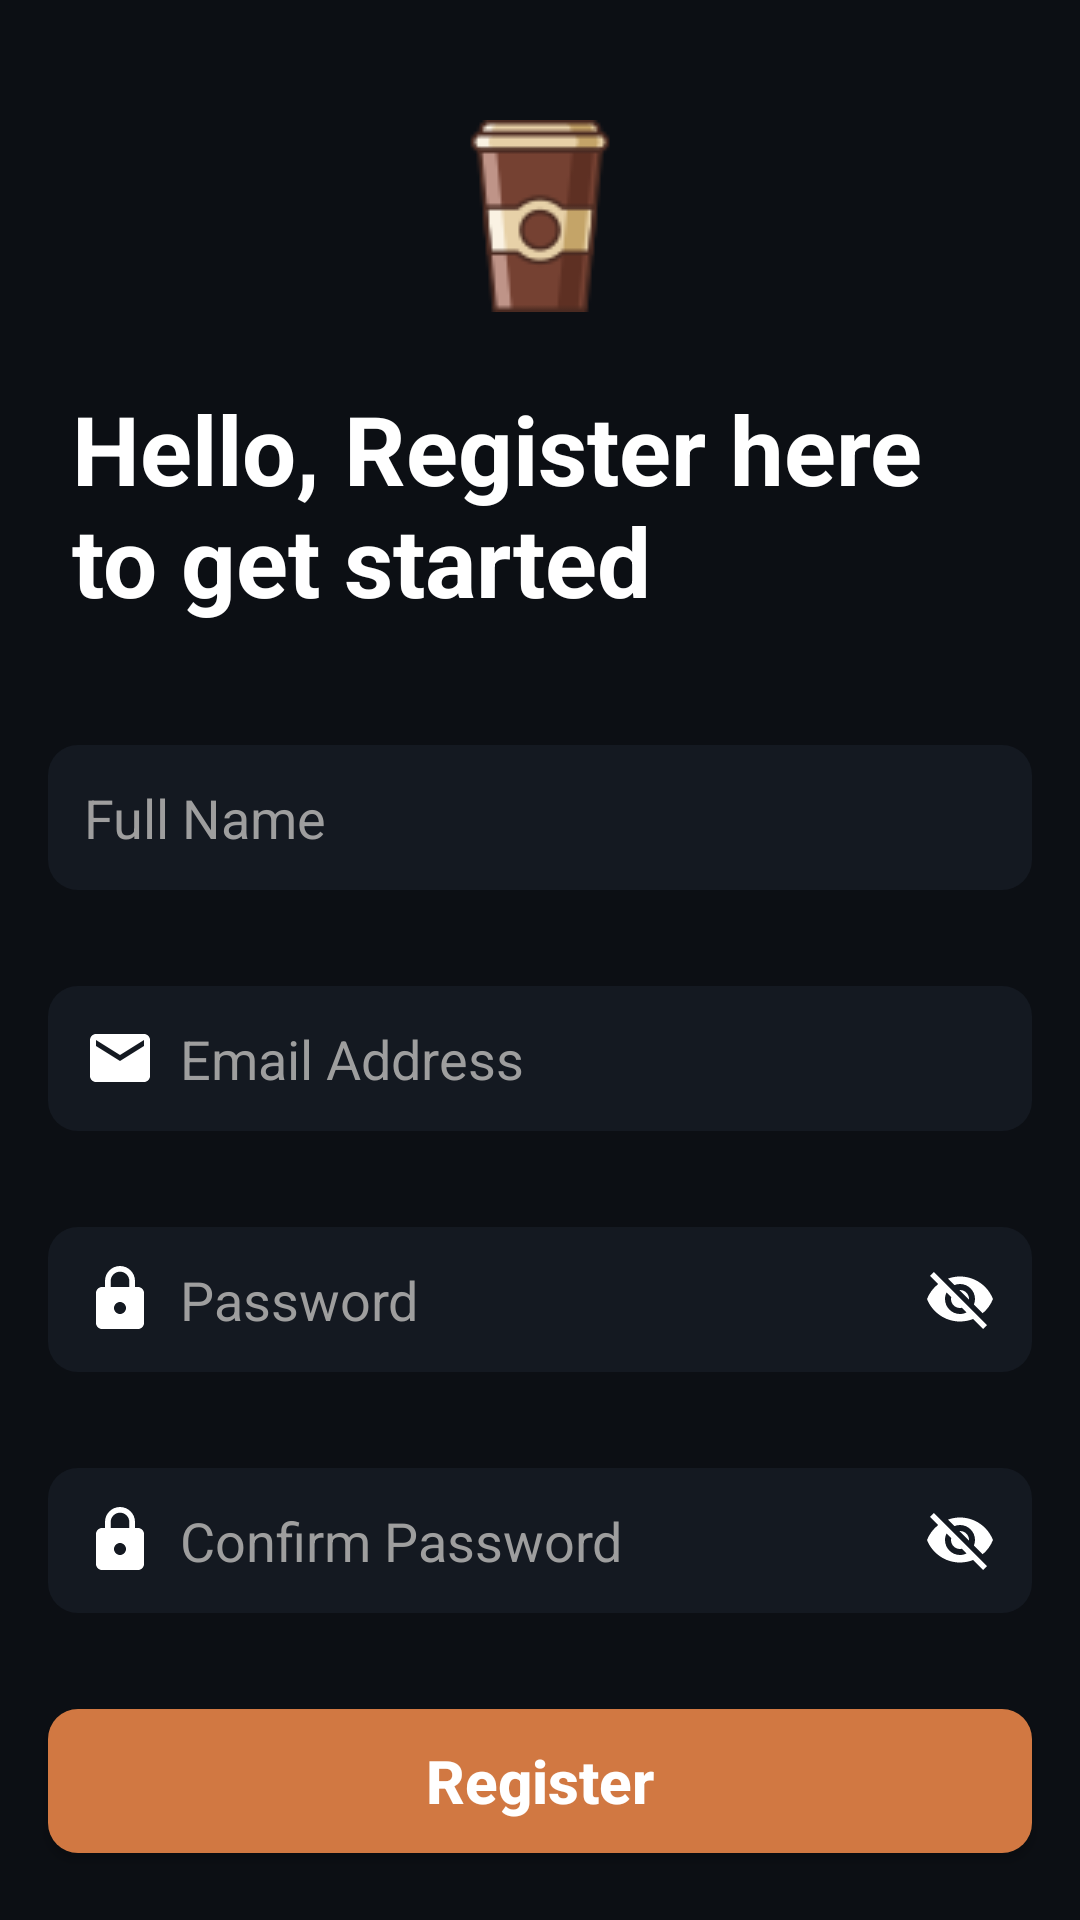

Screen size 1080px x 1920px. Icon name, then its box in pixels as box=[x1, y1, x2, y2]:
coffee: box=[471, 120, 609, 312]
